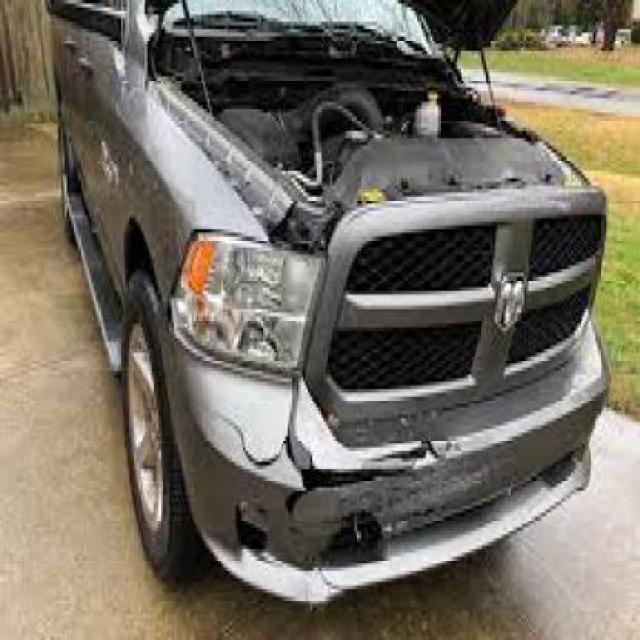damaged-front-bumper: (164, 376, 613, 598)
